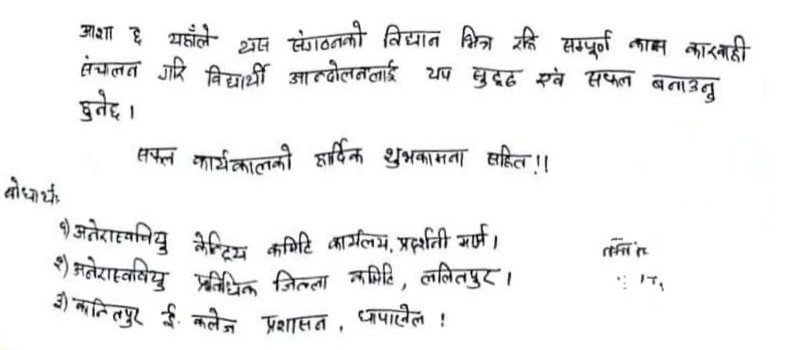text: (73, 217, 169, 255), (191, 140, 294, 174), (282, 56, 401, 84), (71, 257, 167, 291), (379, 140, 468, 171), (645, 70, 721, 106), (280, 20, 368, 50), (354, 299, 426, 335), (69, 295, 146, 328), (415, 261, 503, 289), (682, 29, 750, 65), (200, 60, 271, 93), (190, 227, 253, 262), (189, 268, 260, 298), (311, 134, 368, 171), (556, 25, 617, 59), (68, 89, 129, 122), (72, 52, 143, 80), (257, 309, 329, 336), (380, 22, 444, 52), (580, 63, 638, 96), (395, 224, 451, 256), (468, 61, 525, 91), (162, 23, 221, 51), (129, 139, 182, 170), (479, 143, 532, 174), (2, 178, 59, 206), (327, 228, 389, 253), (346, 258, 396, 289), (189, 305, 239, 336), (269, 269, 331, 293), (263, 230, 314, 258), (623, 33, 674, 58), (458, 22, 496, 55), (75, 19, 120, 46), (508, 24, 544, 55), (233, 32, 276, 56), (455, 221, 489, 251), (156, 55, 189, 85), (532, 67, 569, 93), (421, 60, 457, 86), (158, 299, 180, 333), (129, 22, 150, 47), (56, 212, 72, 239), (51, 289, 66, 315), (50, 254, 66, 277)
